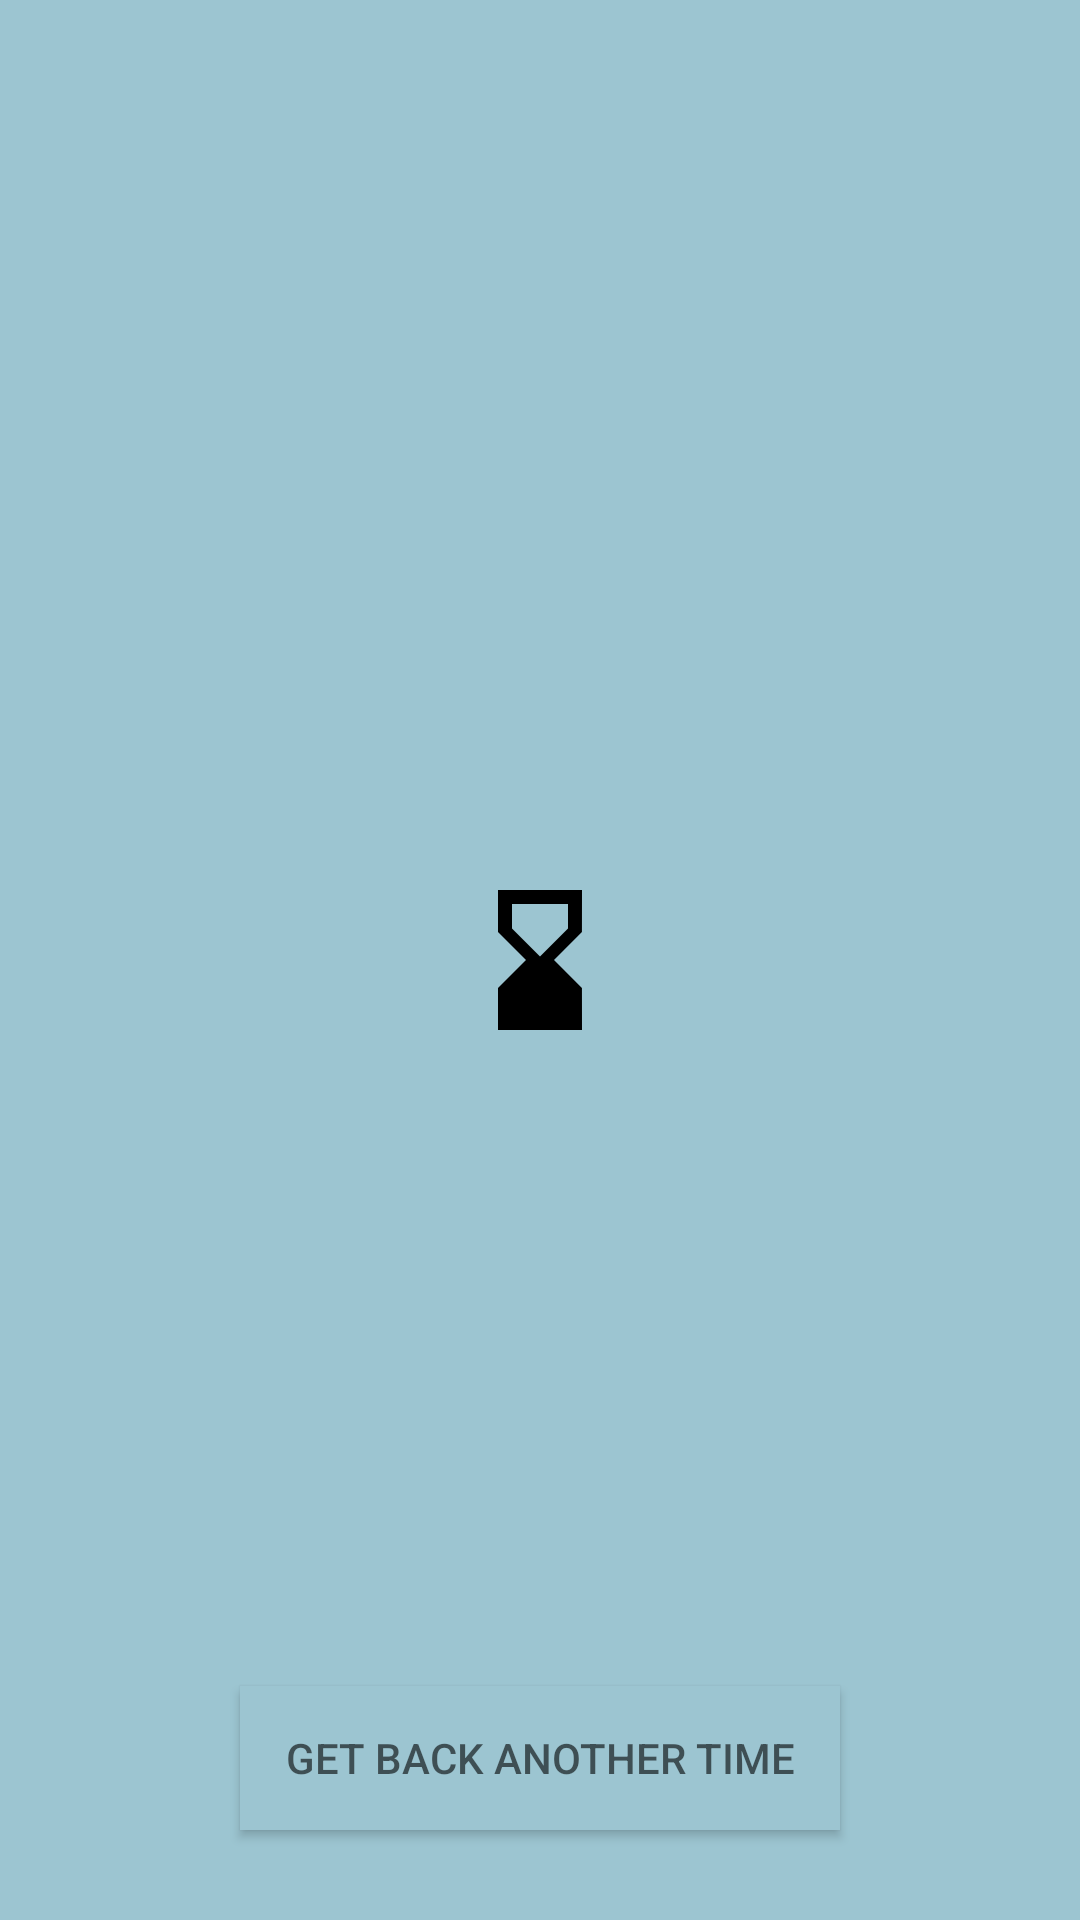

Where icons sit on this 1080px×1920px app screen, as (x1, y1, x2, y2):
hourglass: (498, 890, 582, 1030)
